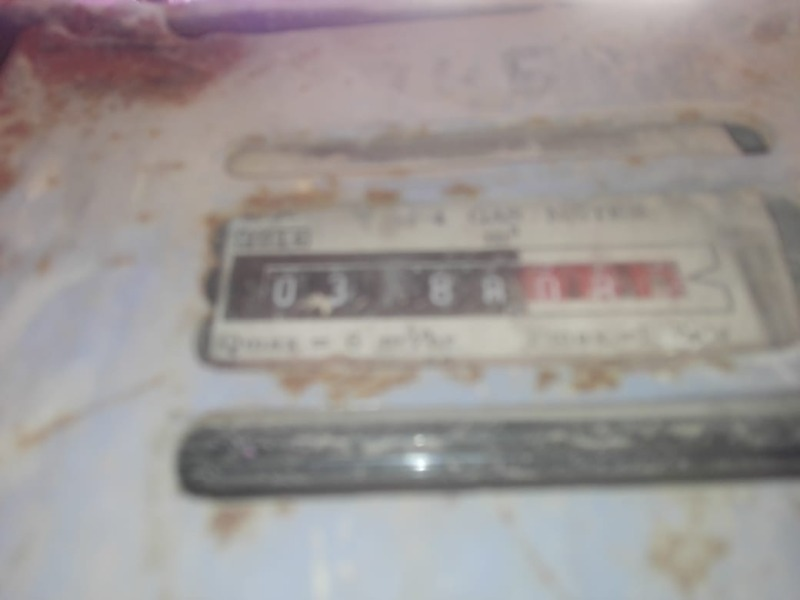ssgc: (231, 254, 699, 321)
